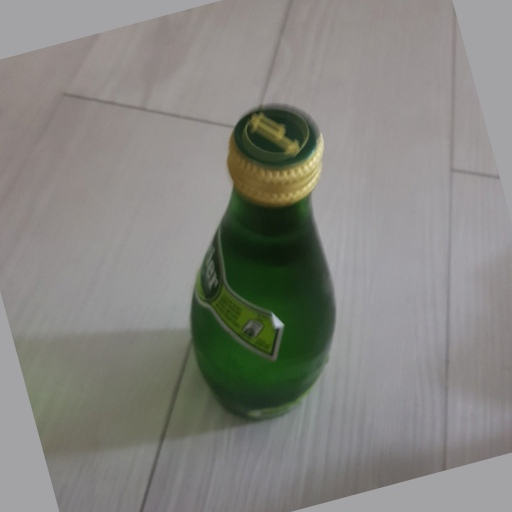Glass_4: (187, 103, 345, 425)
